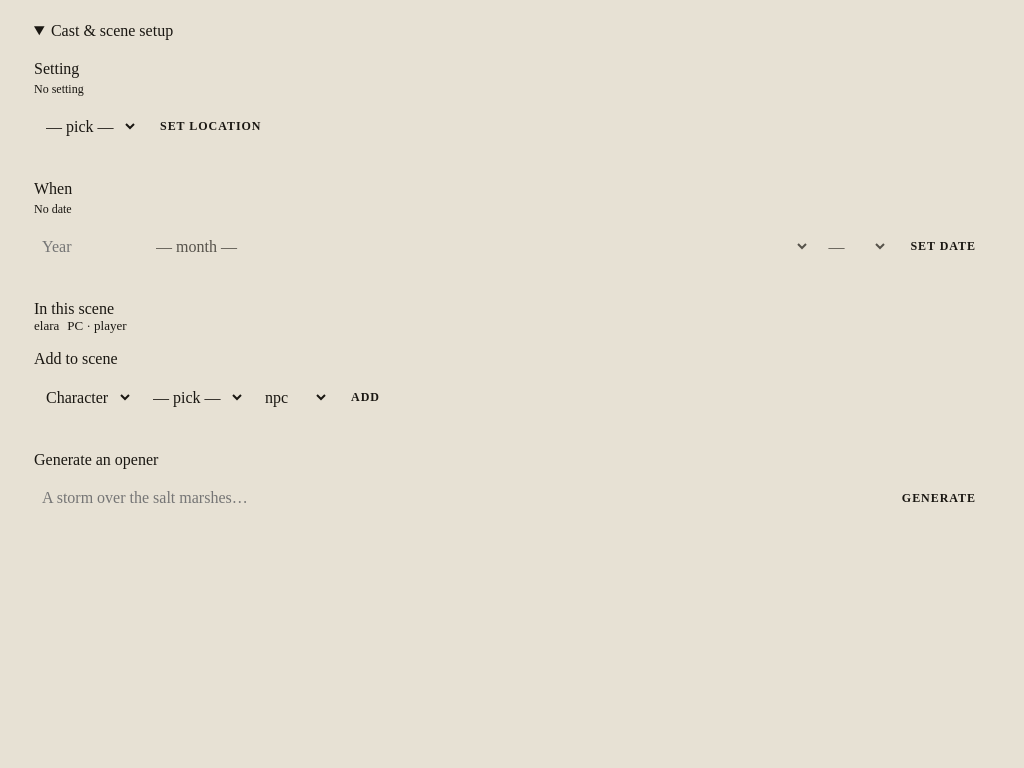
Scenario: a failed greeting save says so and keeps the opener
Type "A foggy harbor" into the field named "Opener prompt" at (457, 498), box [34, 481, 880, 515]
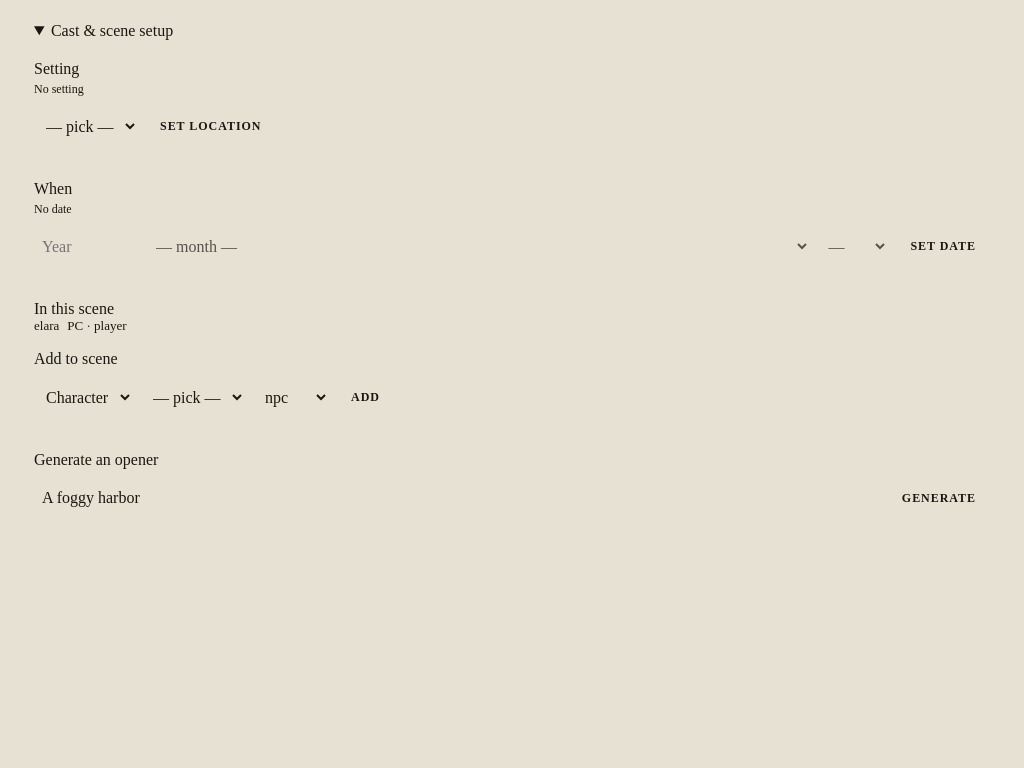
Click the button "Generate" at (939, 498), box [888, 481, 990, 515]
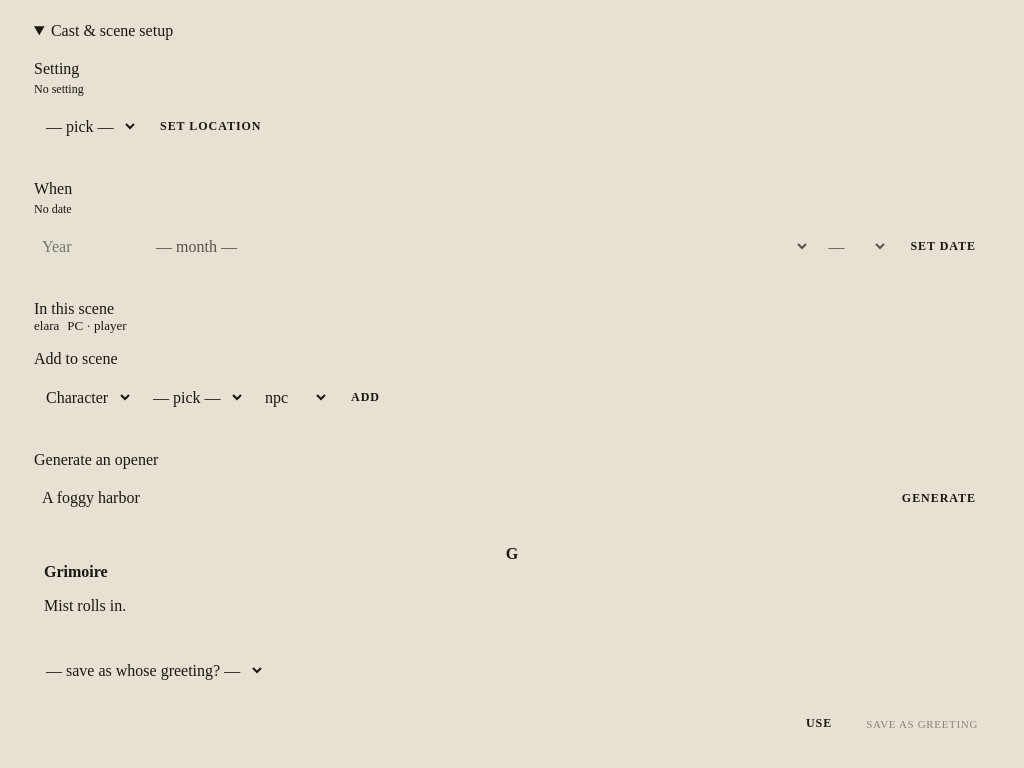
Now the text "Mist rolls in." is shown, box [44, 597, 126, 614]
Select "Seraphine" in the dropdown named "Greeting character" at (150, 670), box [34, 653, 265, 688]
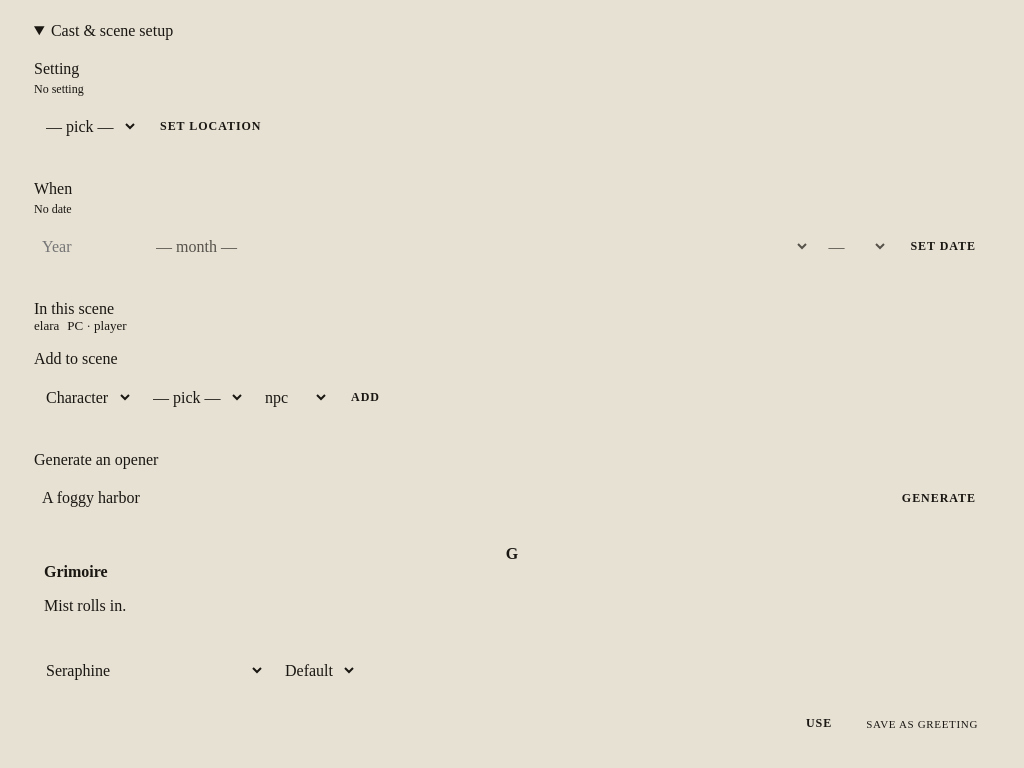
Click the button "Save as greeting" at (922, 724), box [854, 708, 990, 739]
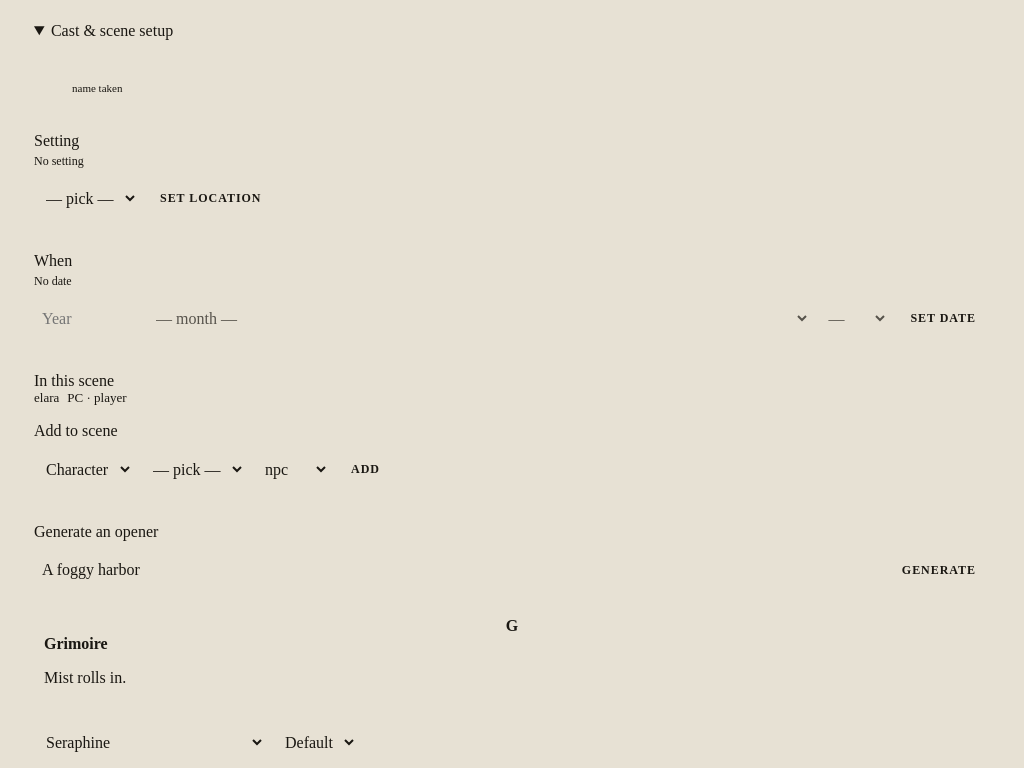
Now the text "Mist rolls in." is shown, box [44, 669, 126, 686]
Now the text "name taken" is shown, box [72, 82, 122, 94]
